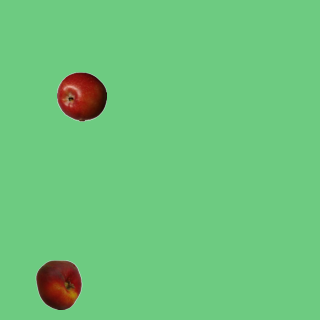Apple Braeburn: (56, 71, 106, 121)
Nectarine Flat: (33, 259, 83, 309)
